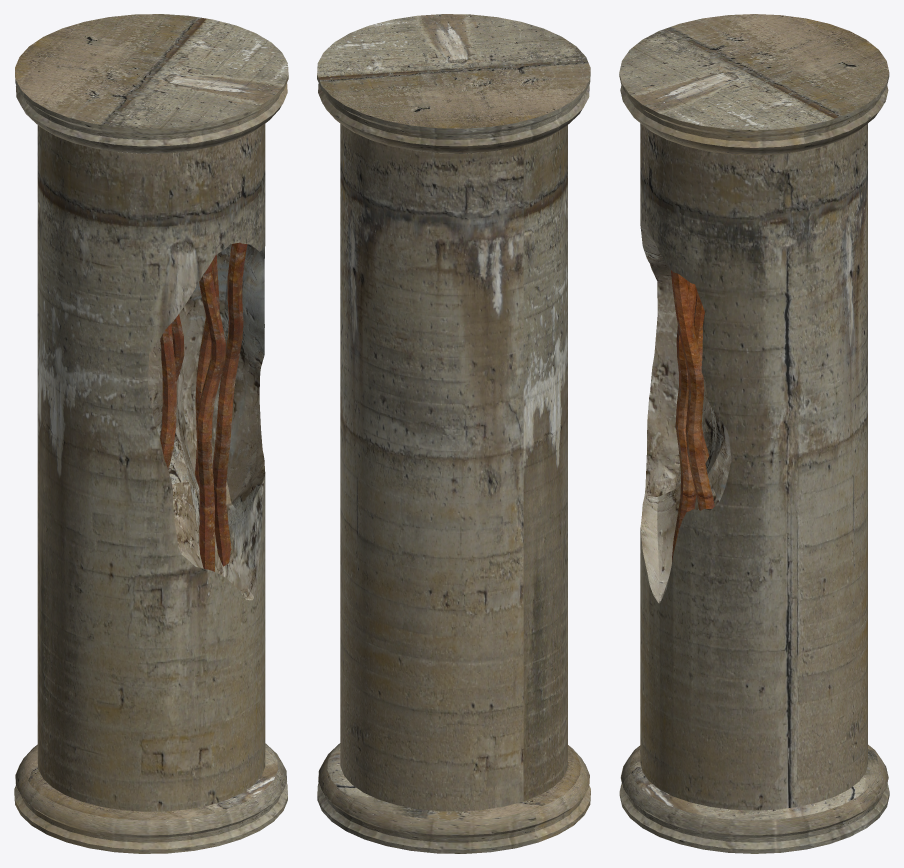
File: pillar2.fbx
The picture shows the model from 3 angles, left to right: view 1: azimuth 30°, elevation 25°; view 2: azimuth 150°, elevation 25°; view 3: azimuth 270°, elevation 25°; orthographic projection.
Visible parts, largest first — view 1: Pillar, Rods.002, Rods.004, Rods.003, Rods.006, Rods; view 2: Pillar; view 3: Pillar, Rods.002, Rods.004, Rods.003.
Boxes of the visible parts, box(x1,y1,x2,y2) form: Pillar: box(14, 14, 288, 853); Rods.002: box(212, 242, 247, 566); Rods.004: box(197, 262, 225, 571); Rods.003: box(160, 323, 176, 470); Rods.006: box(195, 254, 219, 486); Rods: box(171, 314, 184, 381); Pillar: box(317, 14, 590, 853); Pillar: box(619, 14, 889, 853); Rods.002: box(671, 270, 714, 510); Rods.004: box(672, 280, 696, 561); Rods.003: box(693, 290, 709, 462).
Size of the model in its own units: 242 by 702 by 237.
